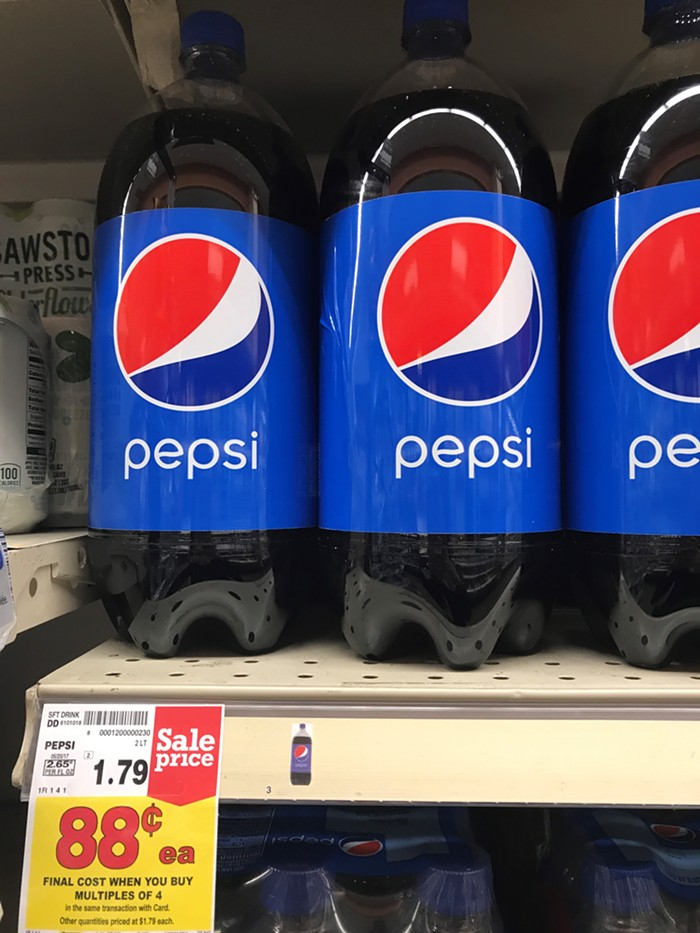pepsi: (365, 216, 541, 403), (365, 222, 541, 403), (373, 216, 541, 403), (111, 231, 274, 411), (112, 231, 274, 411), (112, 238, 274, 411), (605, 206, 698, 404), (605, 217, 698, 404)
